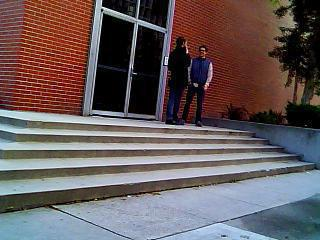Escaleras: (0, 113, 316, 197)
